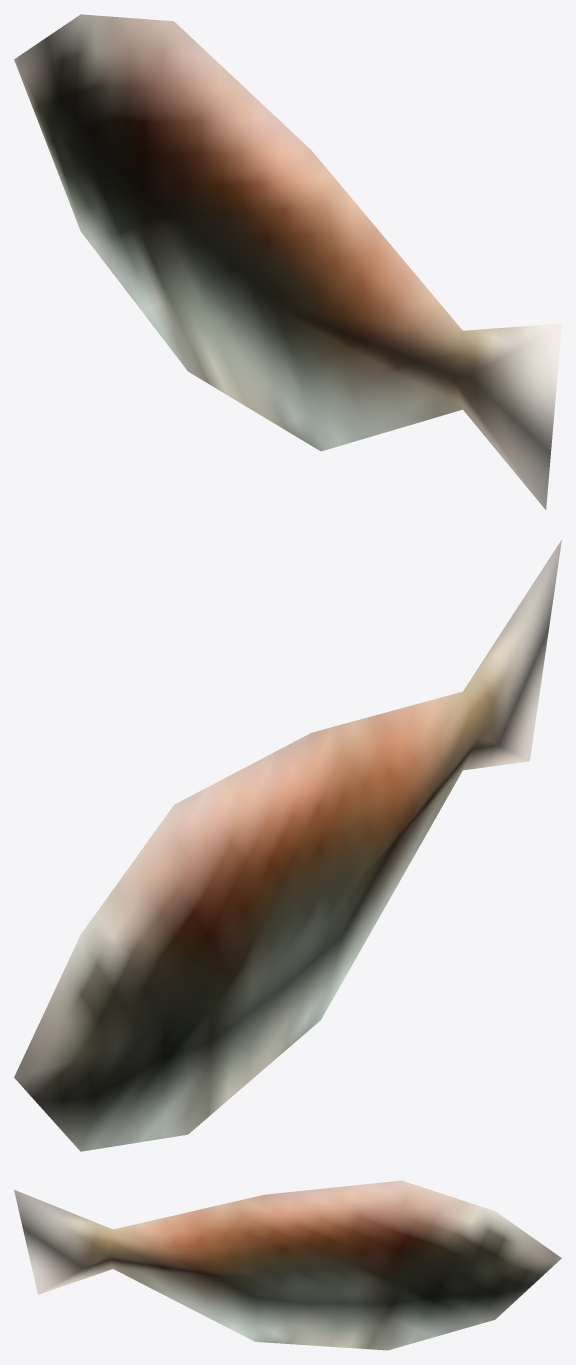
File: animal.fish_4.glb
The picture shows the model from 3 angles, top to bottom: view 1: azimuth 30°, elevation 25°; view 2: azimuth 150°, elevation 25°; view 3: azimuth 270°, elevation 25°; orthographic projection. The views are drawn at different scales.
Visible parts, largest first — view 1: Cube012; view 2: Cube012; view 3: Cube012.
Boxes of the visible parts, <box> form: Cube012: <box>14,14,561,509</box>; Cube012: <box>14,539,561,1151</box>; Cube012: <box>14,1180,561,1350</box>.
Bounding box in the file's own units: 0.0371 × 0.137 × 0.4.
Materials: 1 (1 with a texture image).
